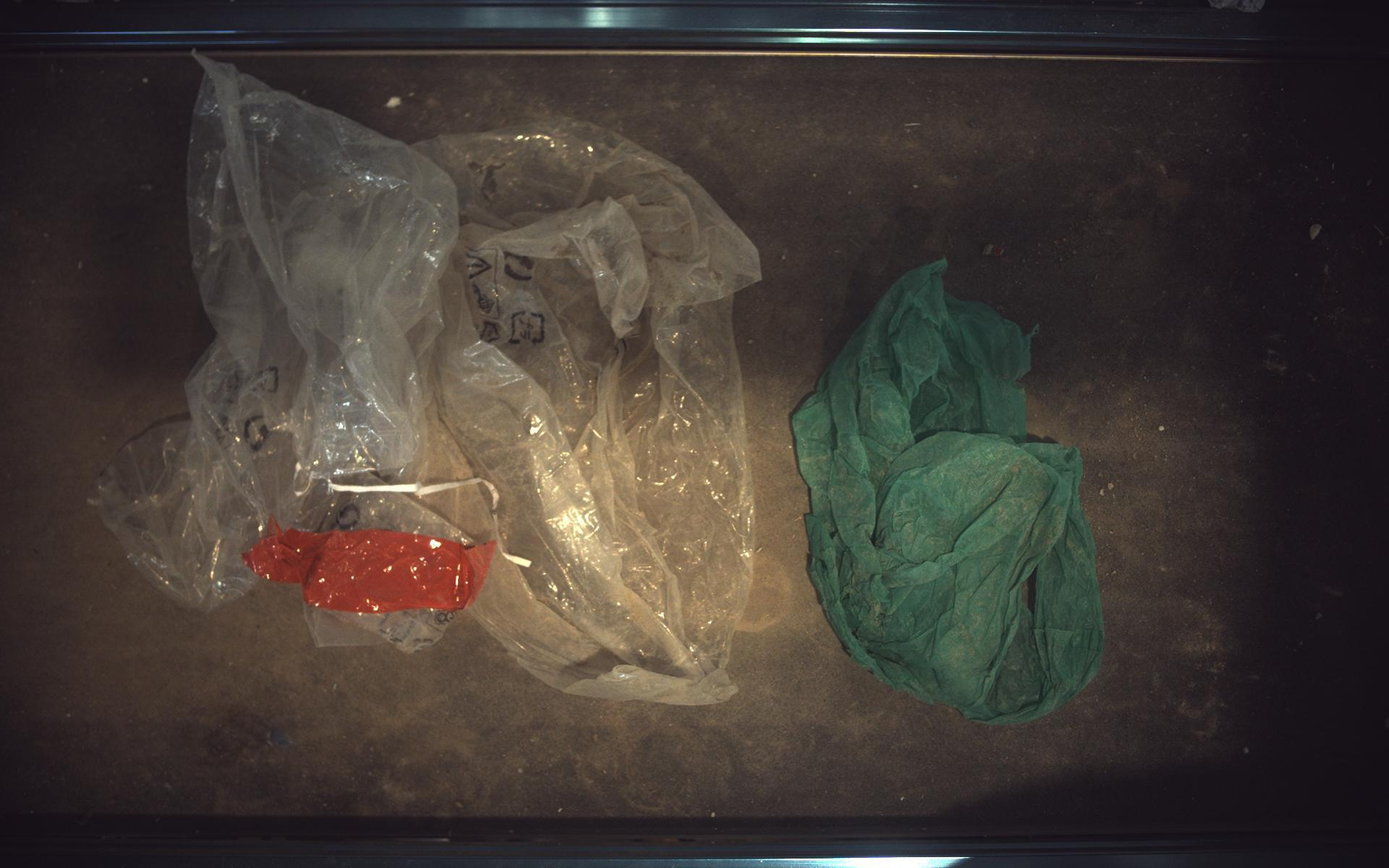general_w: (95, 56, 760, 705), (794, 259, 1106, 725)
